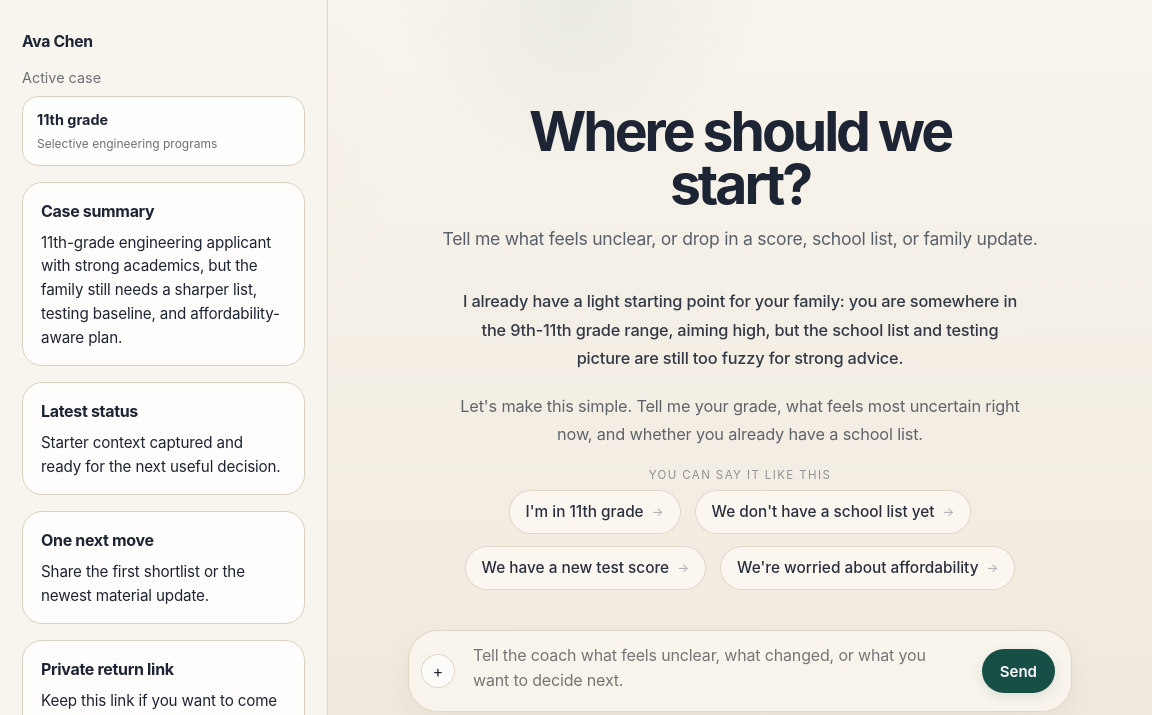
Scenario: CoachShell › lets the user start from a suggested reply card
The width and height of the screenshot is (1152, 715).
expect the heading "Where should we start?" is shown: met, box top-left (498, 104), bottom-right (982, 210)
What coordinates should you click on to do the following:
click the button "We don't have a school list yet"
I would click on:
 (833, 512)
Its box is top-left (695, 490), bottom-right (972, 534).
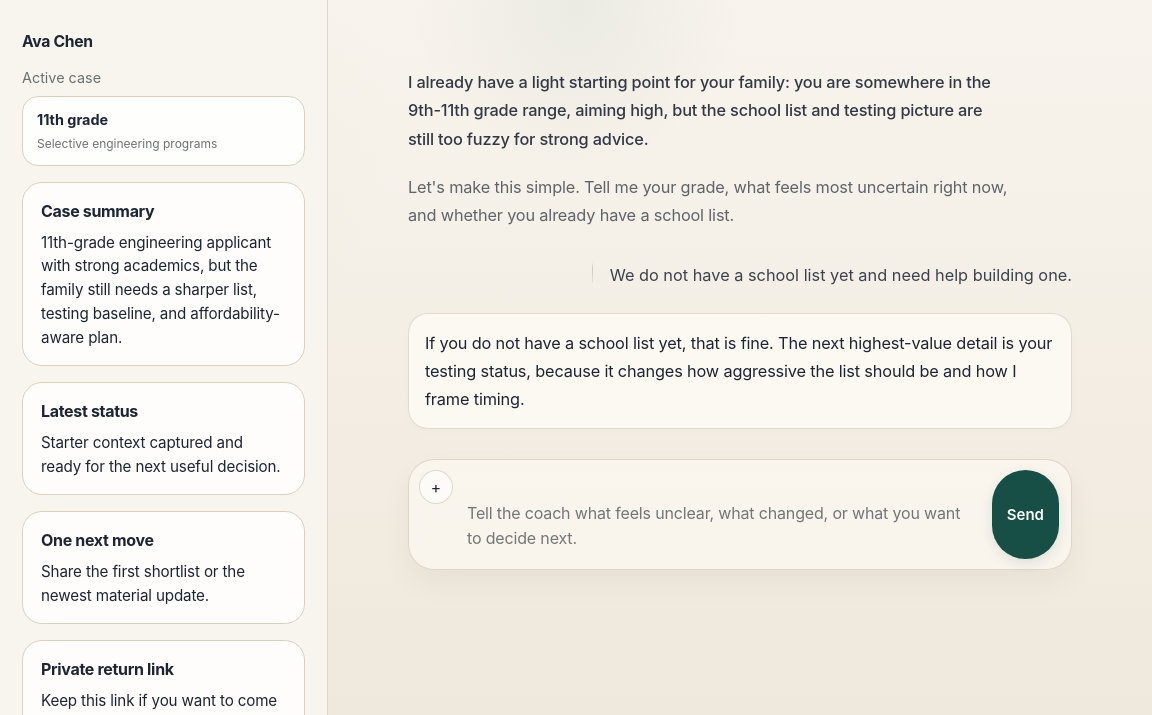
expect the text "We do not have a school list yet and need help building one." is shown: met, box top-left (610, 261), bottom-right (1072, 289)
